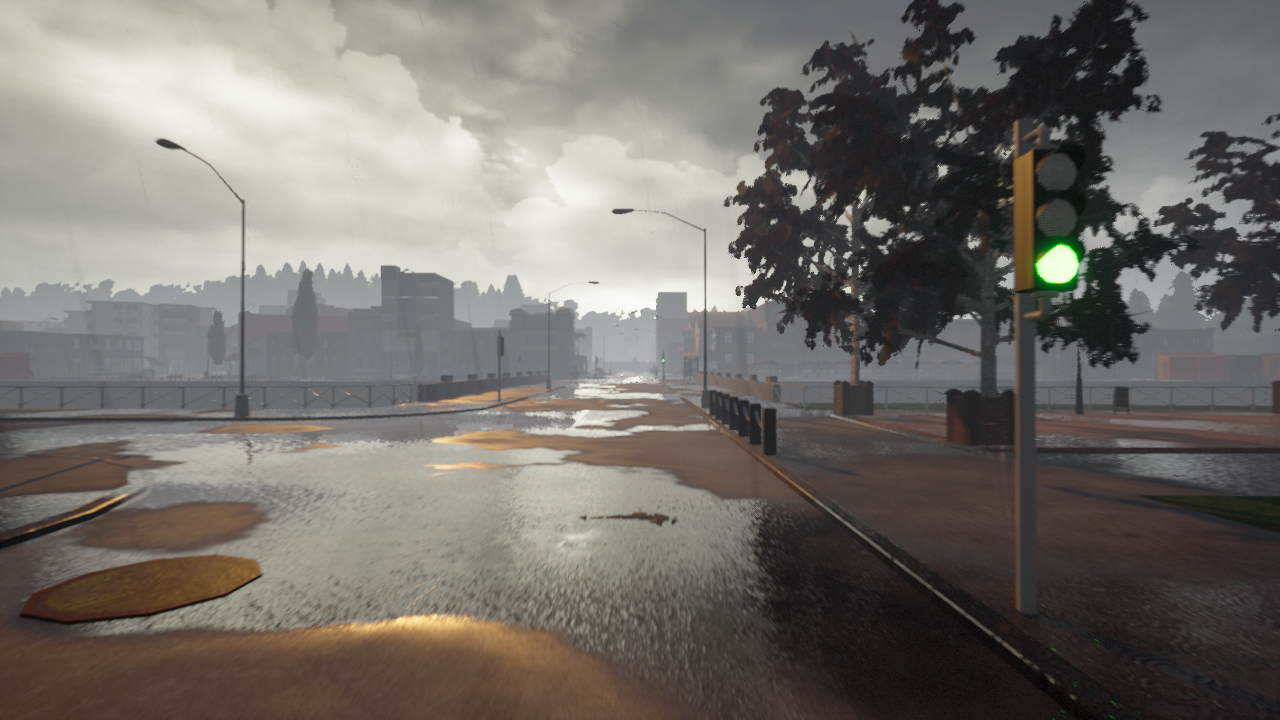green: (1012, 137, 1087, 296)
